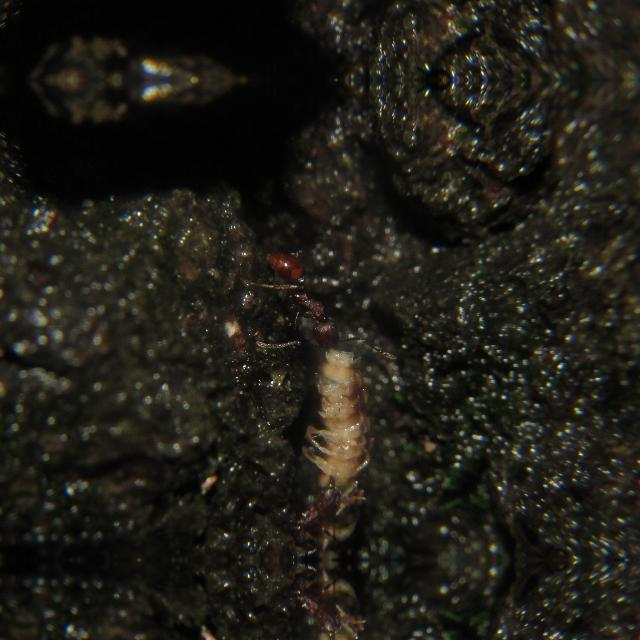Apheanogaster: (253, 241, 354, 355), (264, 466, 360, 554), (264, 564, 360, 640)
